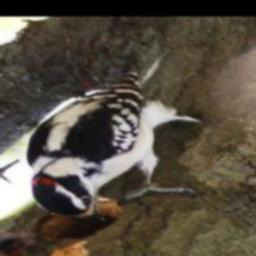Woodpecker: (26, 62, 202, 224)
